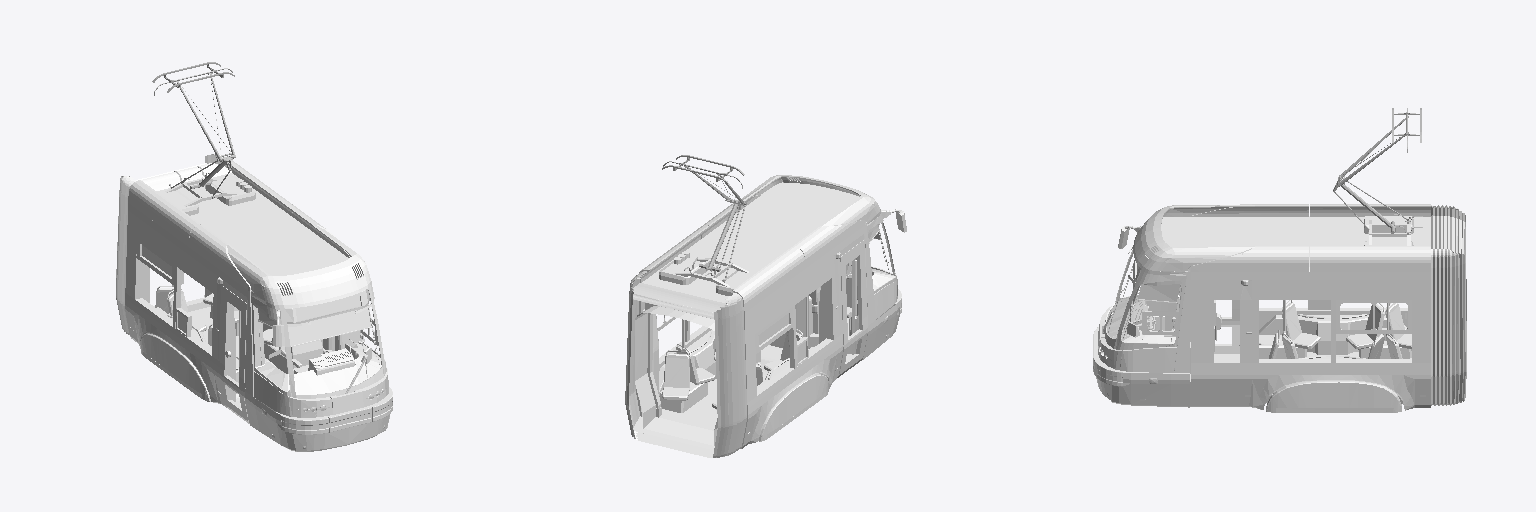
The model's file is pesa_a_tiny.obj.
3 renders of one model, left to right at view 1: azimuth 30°, elevation 25°; view 2: azimuth 150°, elevation 25°; view 3: azimuth 270°, elevation 25°, orthographic.
Parts seen in each view (by area): view 1: EXT, INT, D_RR; view 2: EXT, INT, D_RR; view 3: EXT, INT, DL_RR.
Part boxes in pixels (left/top/right/bottom): EXT: left=116, top=62, right=392, bottom=451; INT: left=135, top=220, right=385, bottom=411; D_RR: left=220, top=286, right=248, bottom=421; EXT: left=625, top=155, right=906, bottom=457; INT: left=633, top=222, right=896, bottom=449; D_RR: left=839, top=240, right=867, bottom=374; EXT: left=1093, top=108, right=1466, bottom=412; INT: left=1103, top=246, right=1411, bottom=394; DL_RR: left=1214, top=300, right=1239, bottom=353.
Bounding box in the file's own units: 2.73 × 5.83 × 7.25.